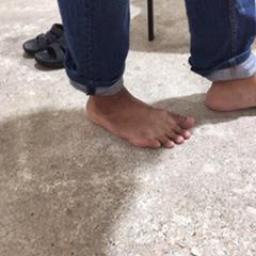Lateral View -Right Foot-: (75, 59, 197, 159)
